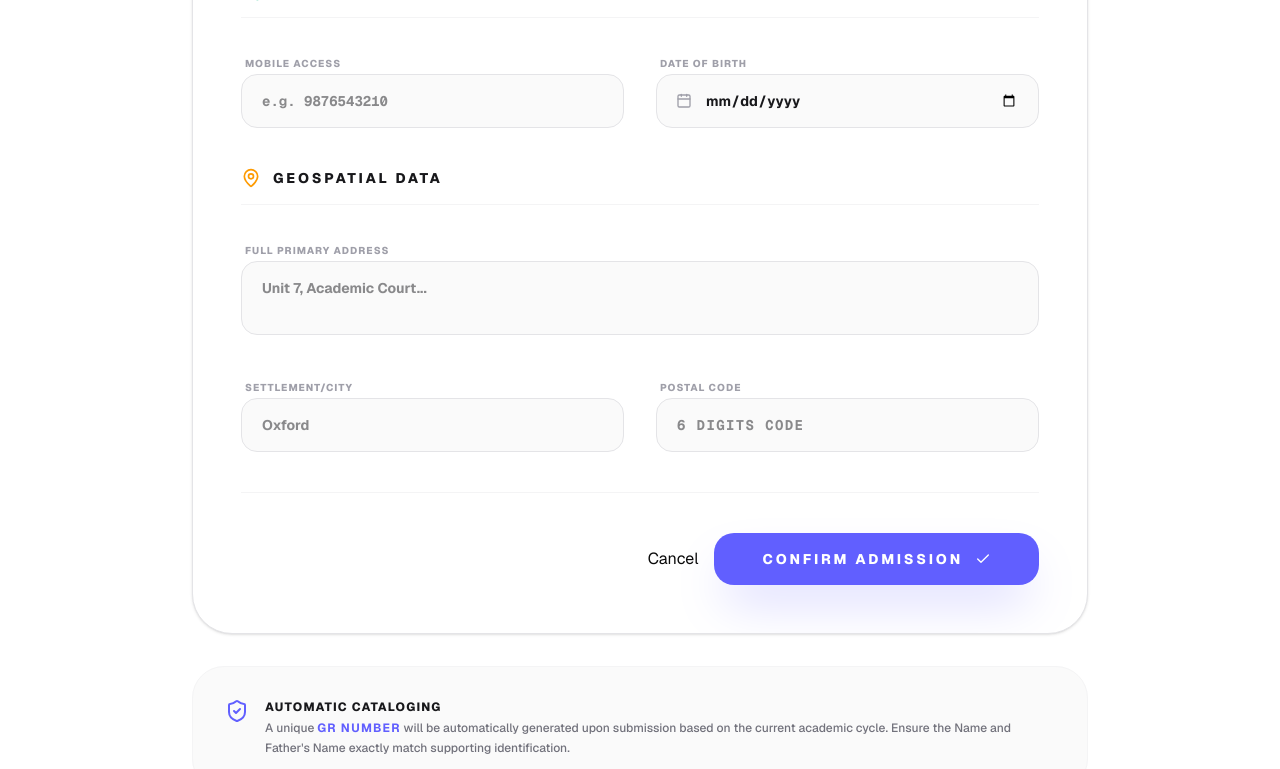
Test: AddStudentPage › shows validation errors for empty fields on submit
(page scrolled)
Step 1. Click the button "Confirm Admission" → point(877, 559), box [714,533,1039,585]
(page scrolled)
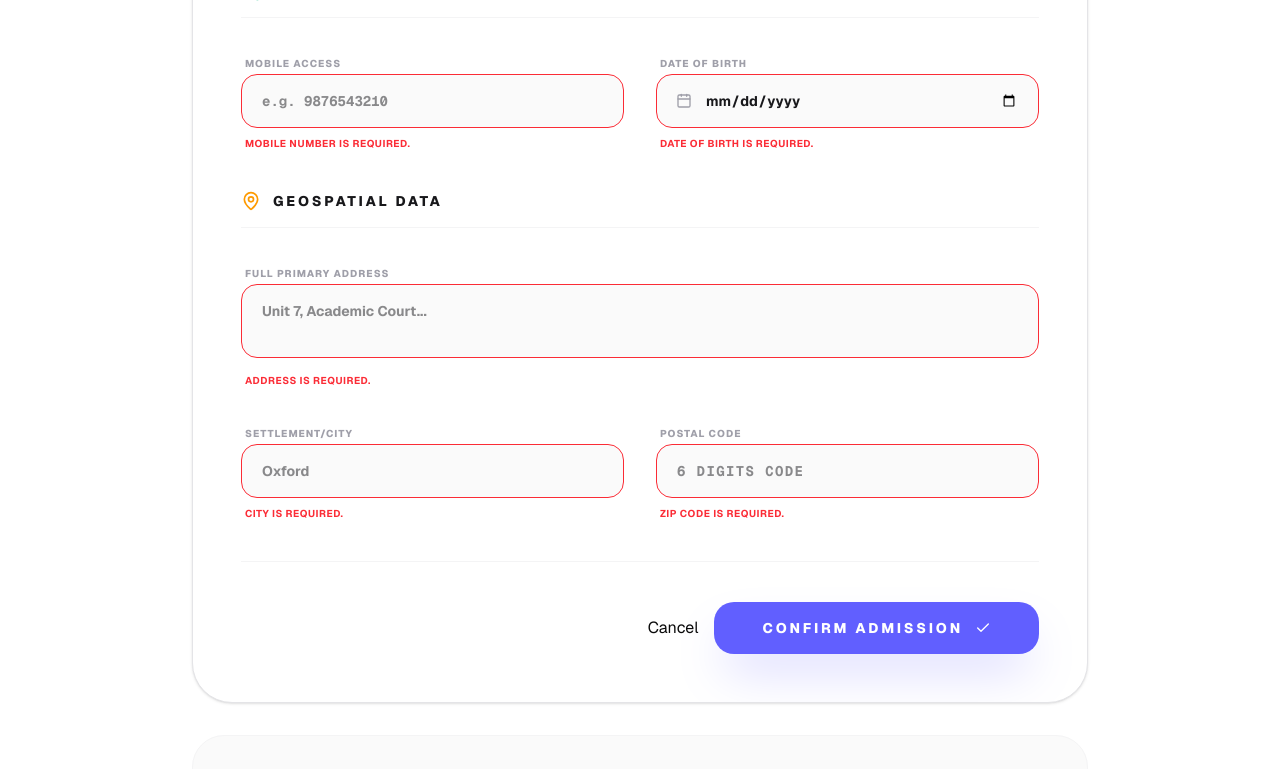
Expected: the text "Mobile number is required." is shown, [245,137,410,150]
